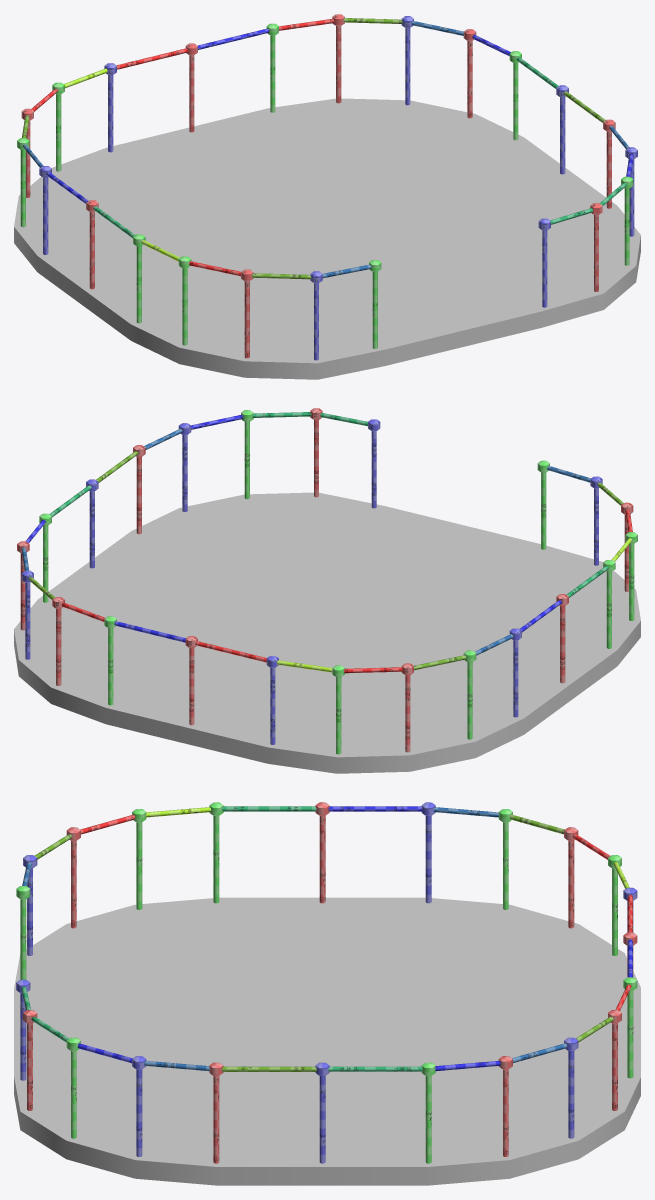
The model's file is bridge_comman_platform.fbx.
3 renders of one model, top to bottom at view 1: azimuth 30°, elevation 25°; view 2: azimuth 150°, elevation 25°; view 3: azimuth 270°, elevation 25°, orthographic. The views are drawn at different scales.
Visible parts, largest first — view 1: bridge_comman_platform_floor, bridge_comman_platform; view 2: bridge_comman_platform_floor, bridge_comman_platform; view 3: bridge_comman_platform_floor, bridge_comman_platform.
Boxes of the visible parts, x1=… form: bridge_comman_platform_floor: x1=14, y1=98, x2=640, y2=379; bridge_comman_platform: x1=17, y1=14, x2=637, y2=360; bridge_comman_platform_floor: x1=14, y1=492, x2=640, y2=773; bridge_comman_platform: x1=17, y1=408, x2=637, y2=754; bridge_comman_platform_floor: x1=14, y1=897, x2=640, y2=1185; bridge_comman_platform: x1=16, y1=802, x2=637, y2=1163.
Bounding box in the file's own units: 619 × 126 × 610.
